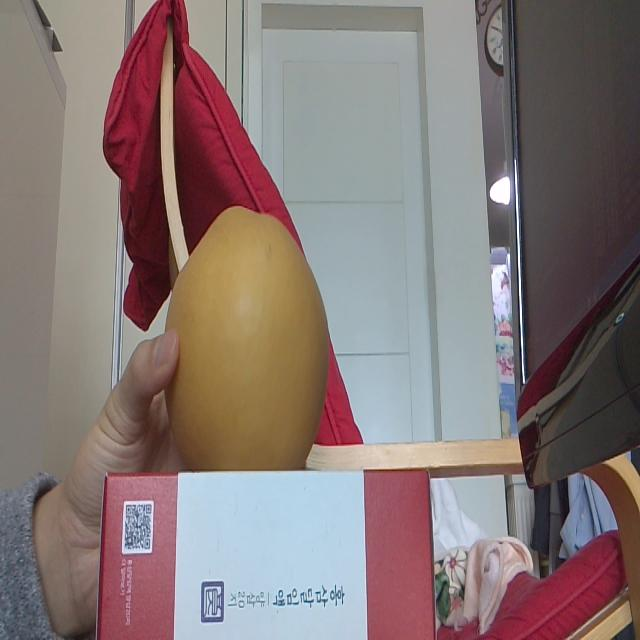pear: (166, 202, 332, 474)
